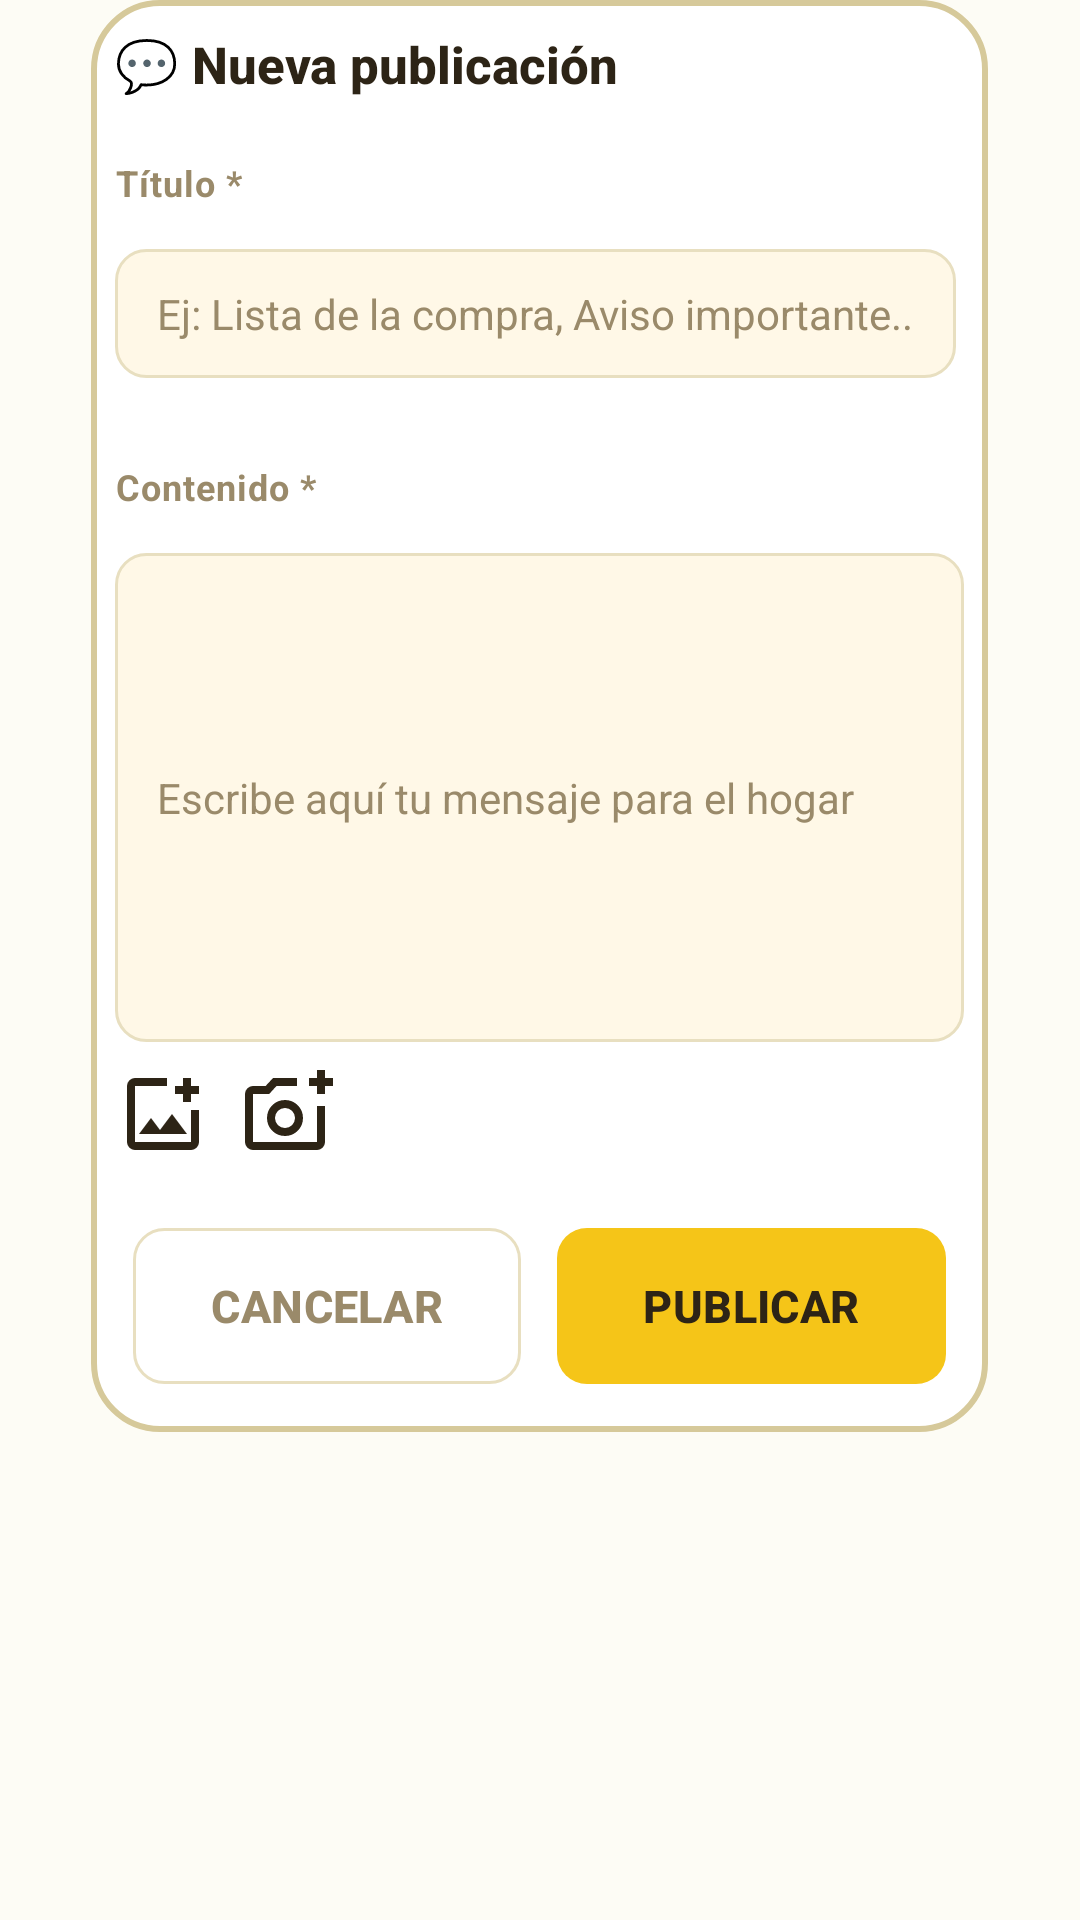

Where icons sit on this 1080 × 1920 app screen, as bbox=[x1, y1, x2, y2]:
add galeria: bbox=[127, 1078, 199, 1150]
add photo: bbox=[245, 1070, 333, 1150]
